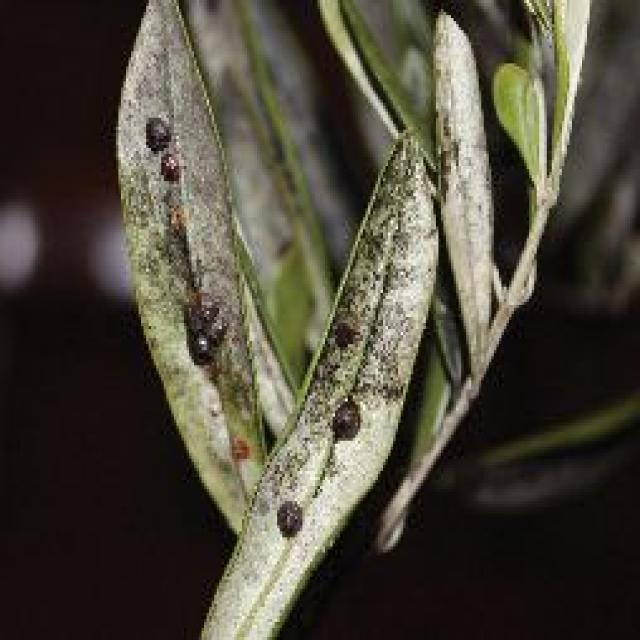Black Scale: (214, 145, 436, 637), (118, 0, 265, 537)
